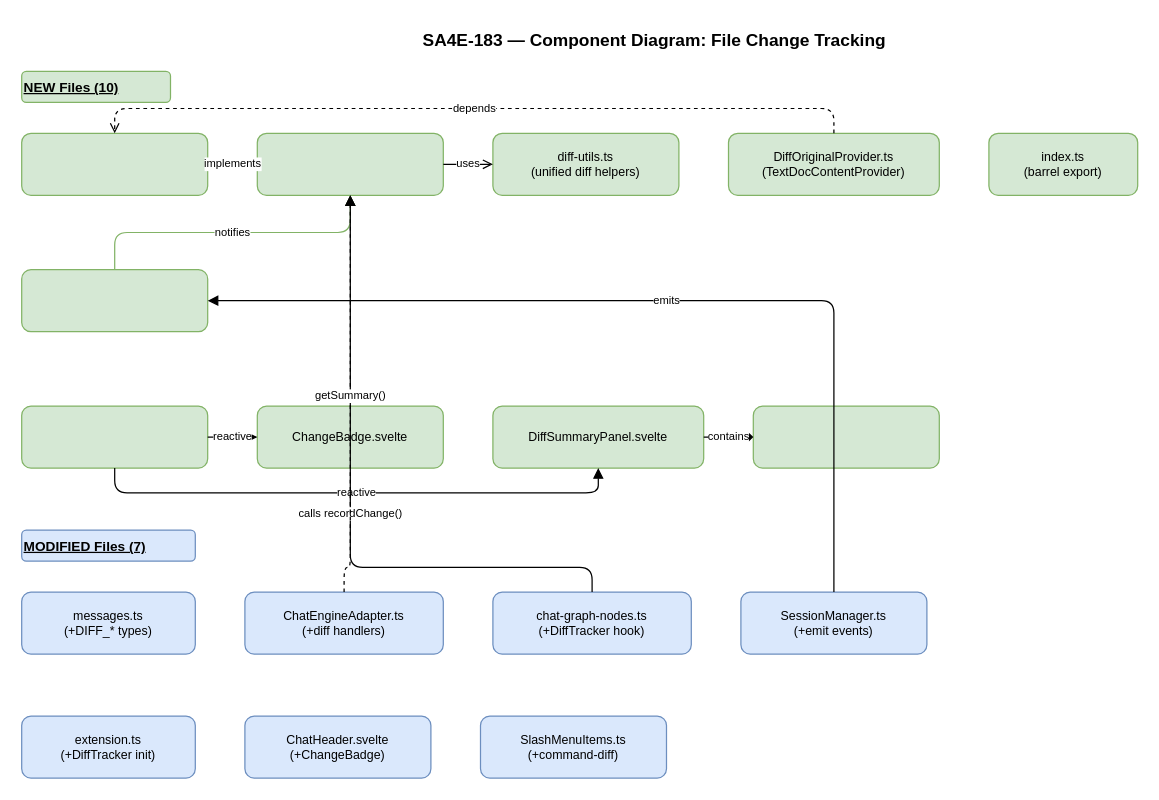
This 1159x800 diagram has some shape labels left out. Each missing label, with the box of its shape:
DiffEntryRow.svelte: (752, 405, 939, 468)
DiffTracker.ts (implementation): (256, 132, 443, 195)
diffTrackerStore.ts (Svelte writable): (20, 405, 208, 468)
IDiffTracker.ts (interface + types): (20, 132, 208, 195)
SessionLifecycle Emitter.ts: (20, 268, 208, 332)
